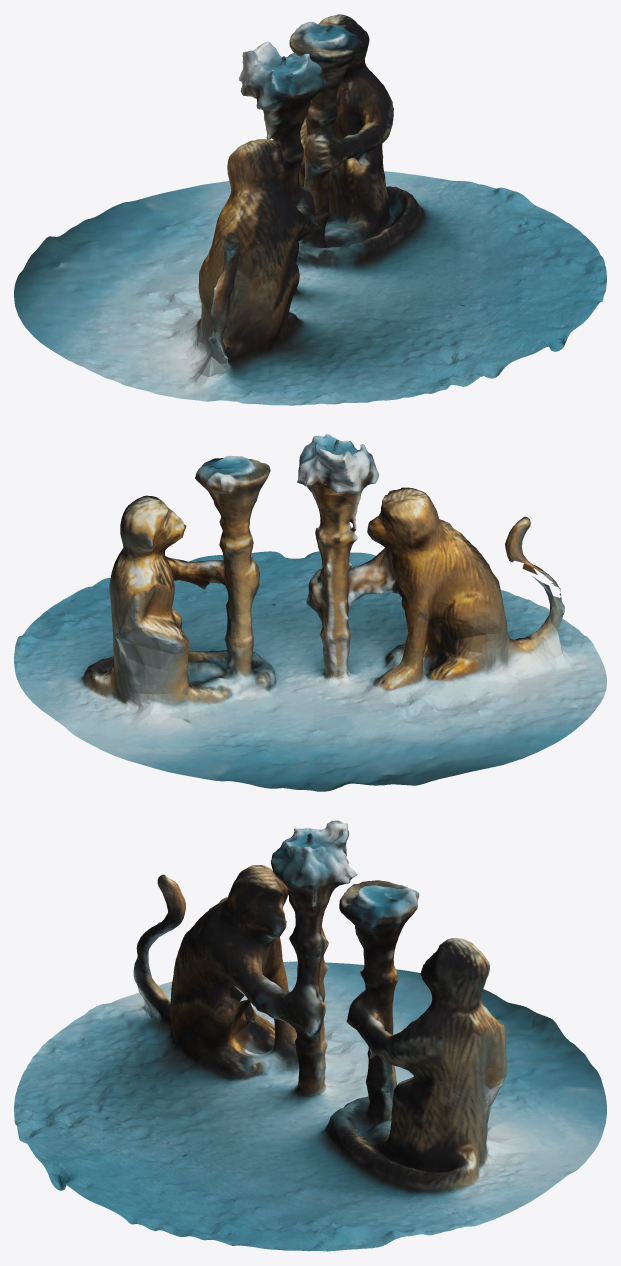
The model's file is scan-2k.glb.
The picture shows the model from 3 angles, top to bottom: view 1: azimuth 30°, elevation 25°; view 2: azimuth 150°, elevation 25°; view 3: azimuth 270°, elevation 25°; orthographic projection. The views are drawn at different scales.
Visible parts, largest first — view 1: mesh; view 2: mesh; view 3: mesh.
Boxes of the visible parts, x1,y1,x2,y2 form: mesh: (14, 14, 606, 405); mesh: (14, 434, 606, 791); mesh: (14, 820, 606, 1251).
Size of the model in its own units: 0.3293 by 0.1501 by 0.2942.
Materials: 1 (1 with a texture image).
